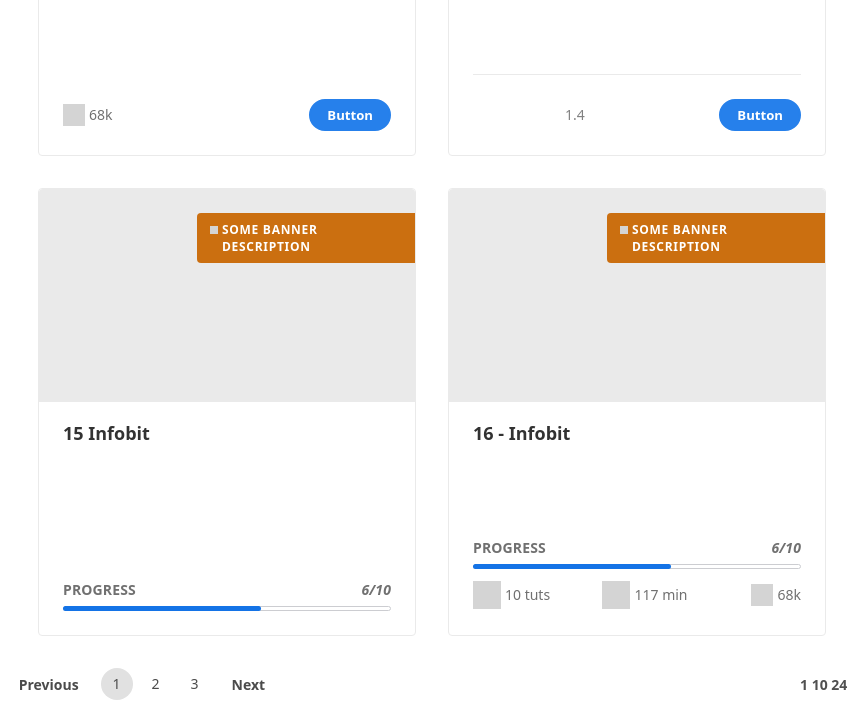
Test: Consonant/Container/Paginator › should change pagination range
(page scrolled)
Check: the element with test id "pagination--summary" shows "1 10", box x1=800 y1=674 x2=847 y2=694
Click the button with test id "btn_next" at (248, 684), box x1=230 y1=672 x2=267 y2=696
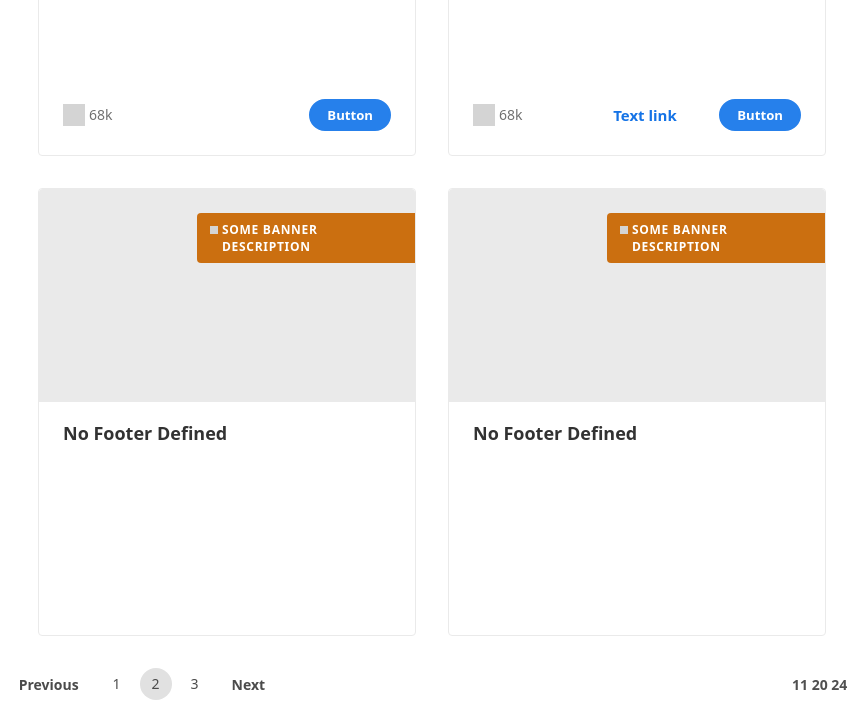
Check: the element with test id "pagination--summary" shows "11", box x1=792 y1=674 x2=847 y2=694
Click the button with test id "btn_prev" at (49, 684), box x1=17 y1=672 x2=81 y2=696
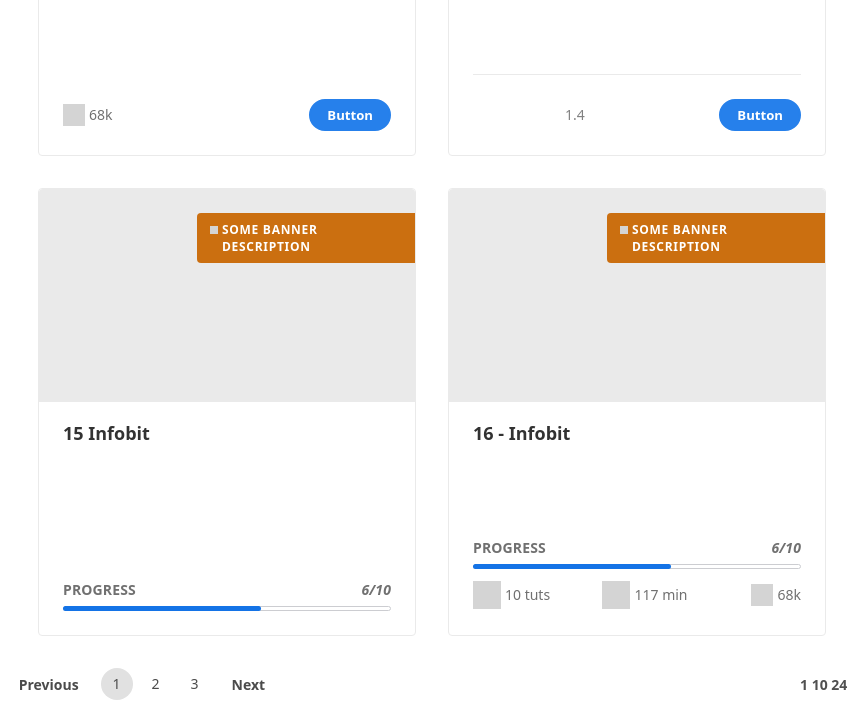
Check: the element with test id "pagination--summary" shows "1 10", box x1=800 y1=674 x2=847 y2=694
